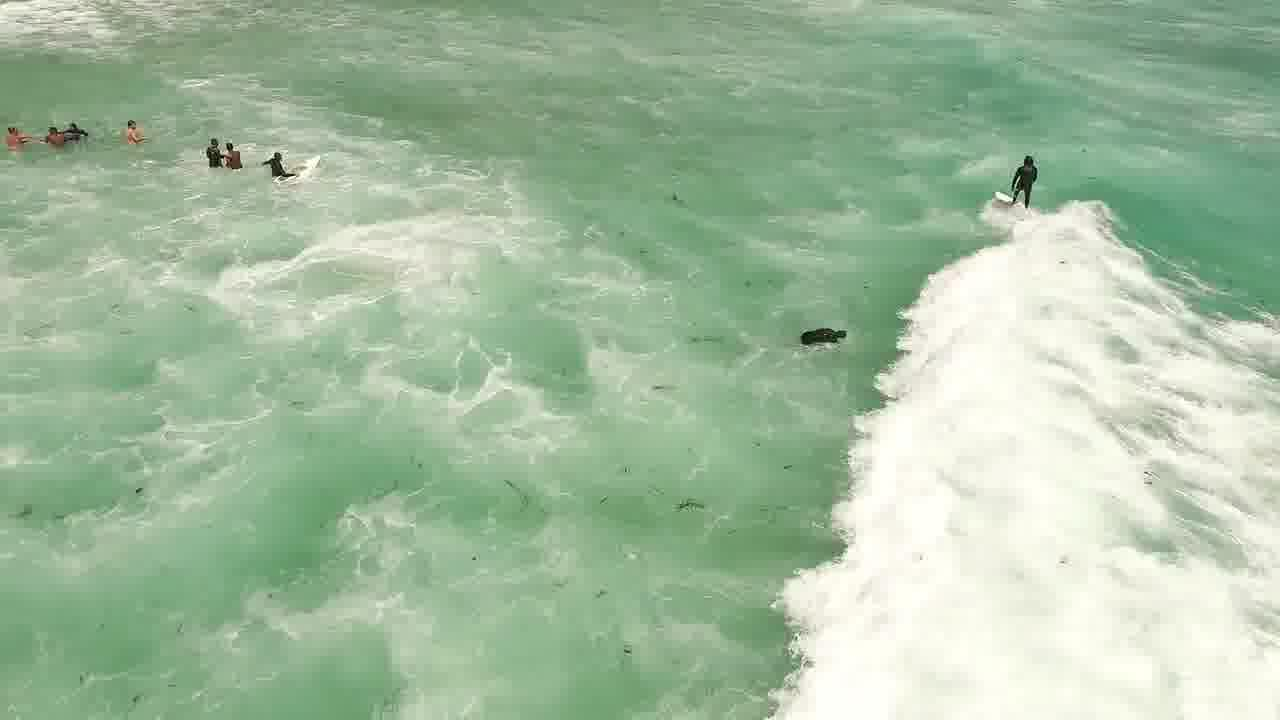swimmer: (114, 107, 158, 146), (56, 101, 88, 145), (0, 112, 34, 152), (33, 117, 66, 156)
